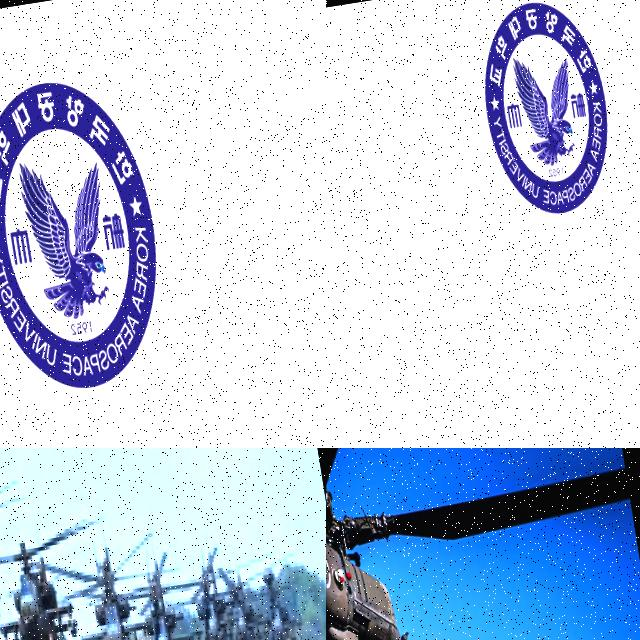Apache: (326, 448, 640, 640), (48, 513, 188, 640), (0, 512, 108, 640), (163, 536, 260, 640), (251, 549, 311, 640), (215, 551, 275, 640)
KAU_Marker: (0, 75, 176, 397), (470, 0, 624, 225)
